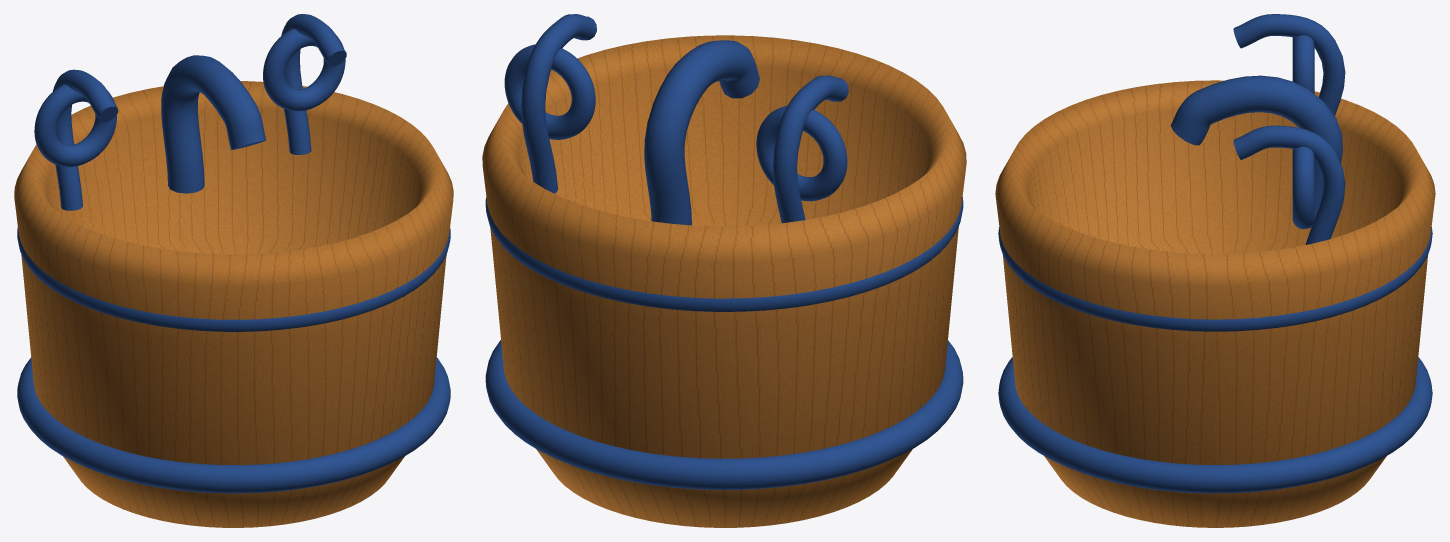
The model's file is sink.glb.
3 renders of one model, left to right at view 1: azimuth 30°, elevation 25°; view 2: azimuth 150°, elevation 25°; view 3: azimuth 270°, elevation 25°, orthographic. The views are drawn at different scales.
Visible parts, largest first — view 1: sink_warm wood, sink_blue iron; view 2: sink_warm wood, sink_blue iron; view 3: sink_warm wood, sink_blue iron.
Part boxes in pixels (bbox=[...]): sink_warm wood: bbox=[14, 81, 453, 527]; sink_blue iron: bbox=[17, 14, 450, 493]; sink_warm wood: bbox=[482, 35, 966, 527]; sink_blue iron: bbox=[485, 14, 963, 489]; sink_warm wood: bbox=[995, 80, 1435, 527]; sink_blue iron: bbox=[998, 14, 1432, 493].
Size of the model in its own units: 0.6 by 0.585 by 0.6.
Materials: 2 (1 with a texture image).
